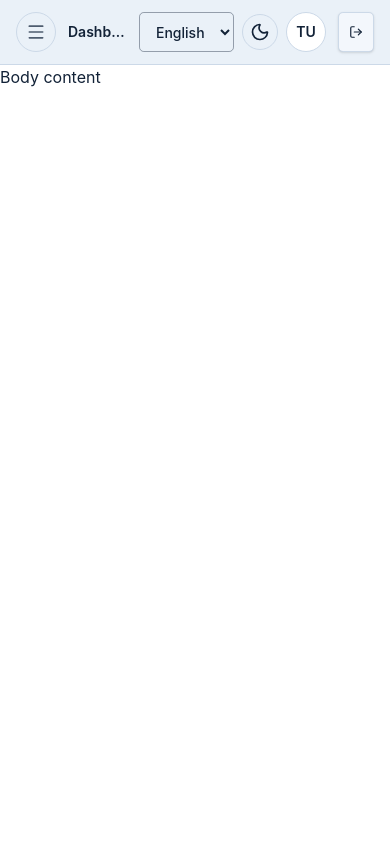
Test: DashboardShell › opens and closes the mobile workspace navigation
Click the button named "toggle navigation" at (36, 32), box [16,12,56,52]
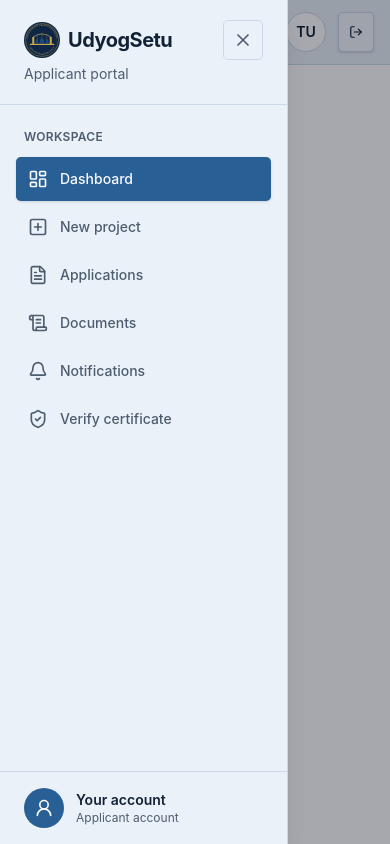
Now the button named "toggle navigation" is expanded, box [16,12,56,52]
Now the button named "close navigation" is shown
Click the button named "close navigation" at (243, 40), box [223,20,263,60]
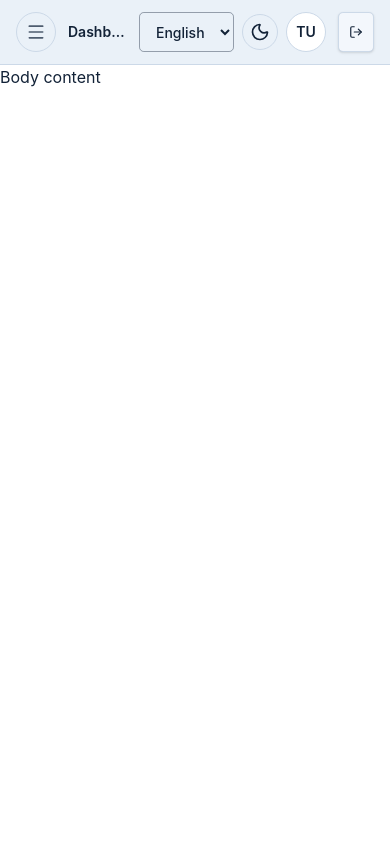
Now the button named "toggle navigation" is collapsed, box [16,12,56,52]
